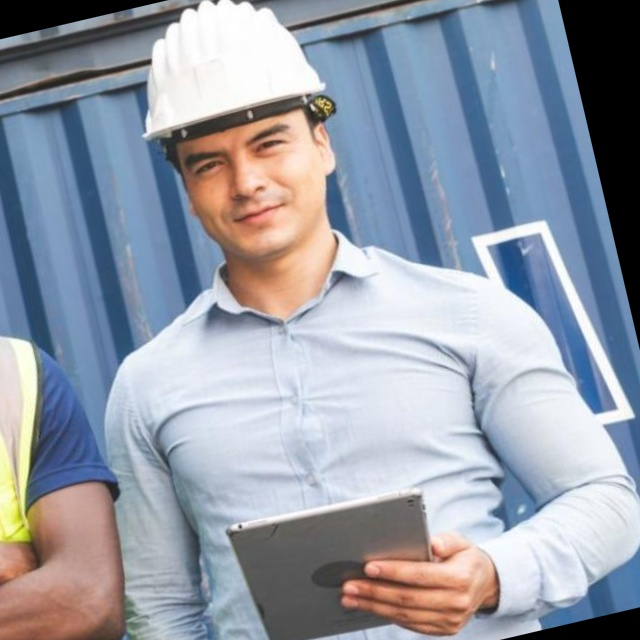Con_Casco: (111, 0, 357, 271)
Sin_Chaleco: (69, 206, 607, 640)
